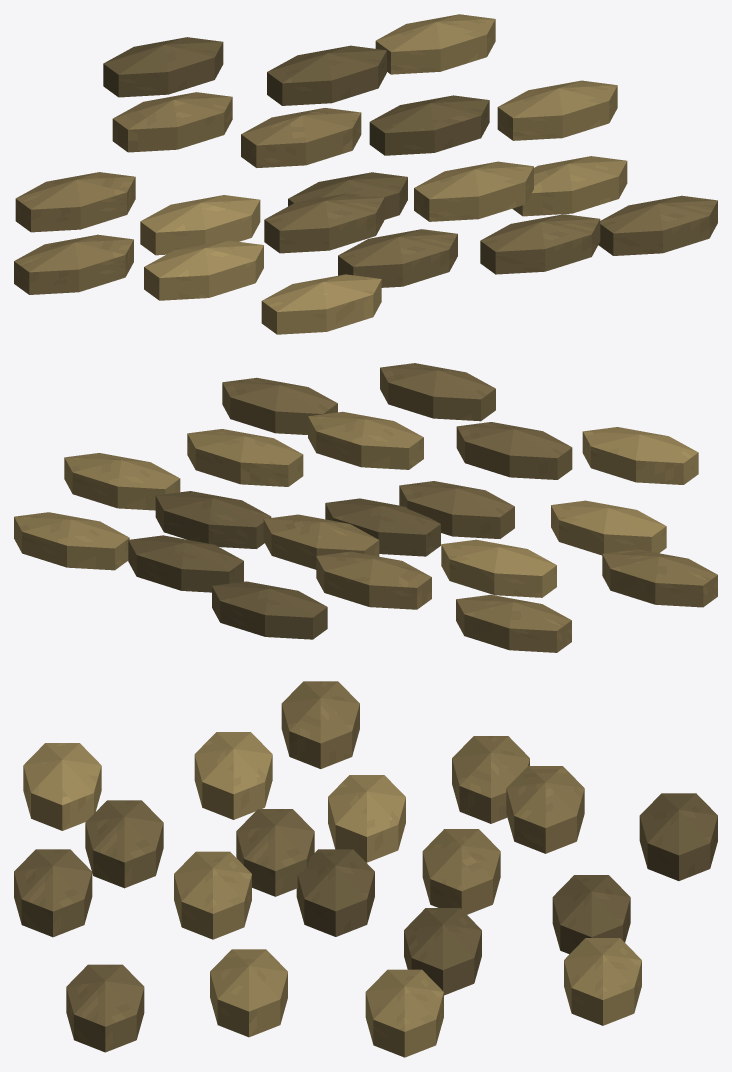
File: herbal_tea.glb
The picture shows the model from 3 angles, top to bottom: view 1: azimuth 30°, elevation 25°; view 2: azimuth 150°, elevation 25°; view 3: azimuth 270°, elevation 25°; orthographic projection. The views are drawn at different scales.
Parts seen in each view (by area): view 1: block_curled dried tea leaf (×19); view 2: block_curled dried tea leaf (×19); view 3: block_curled dried tea leaf (×19).
Part boxes in pixels (x1,y1,x2,y2): block_curled dried tea leaf (×19): (14, 14, 717, 334); block_curled dried tea leaf (×19): (14, 363, 717, 652); block_curled dried tea leaf (×19): (14, 681, 717, 1057).
Size of the model in its own units: 0.1203 by 0.0142 by 0.1021.
Materials: 1 (1 with a texture image).
